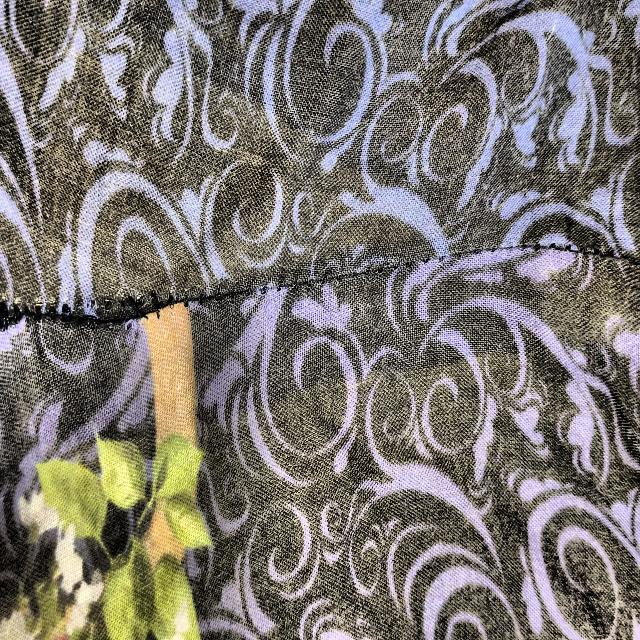seam: (6, 265, 252, 350)
